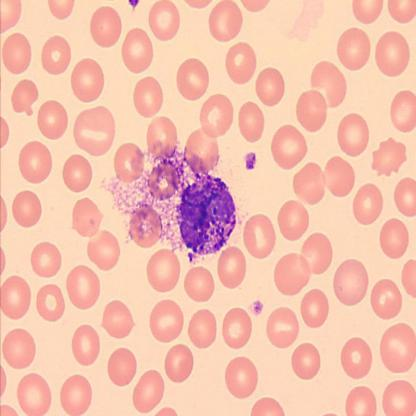Basophil: (174, 172, 240, 258)
